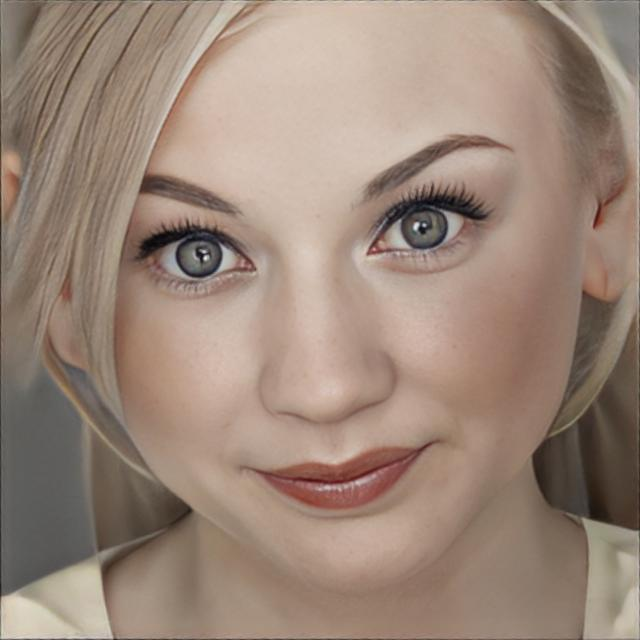content: (111, 0, 582, 588)
